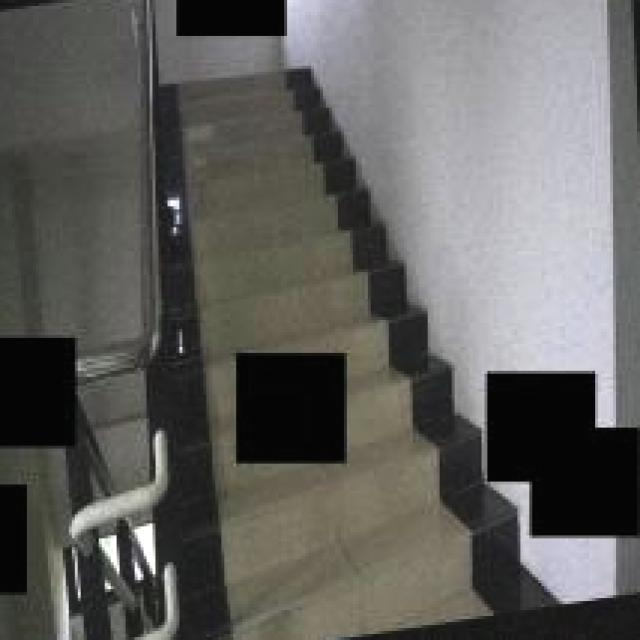upstair: (174, 94, 327, 318)
